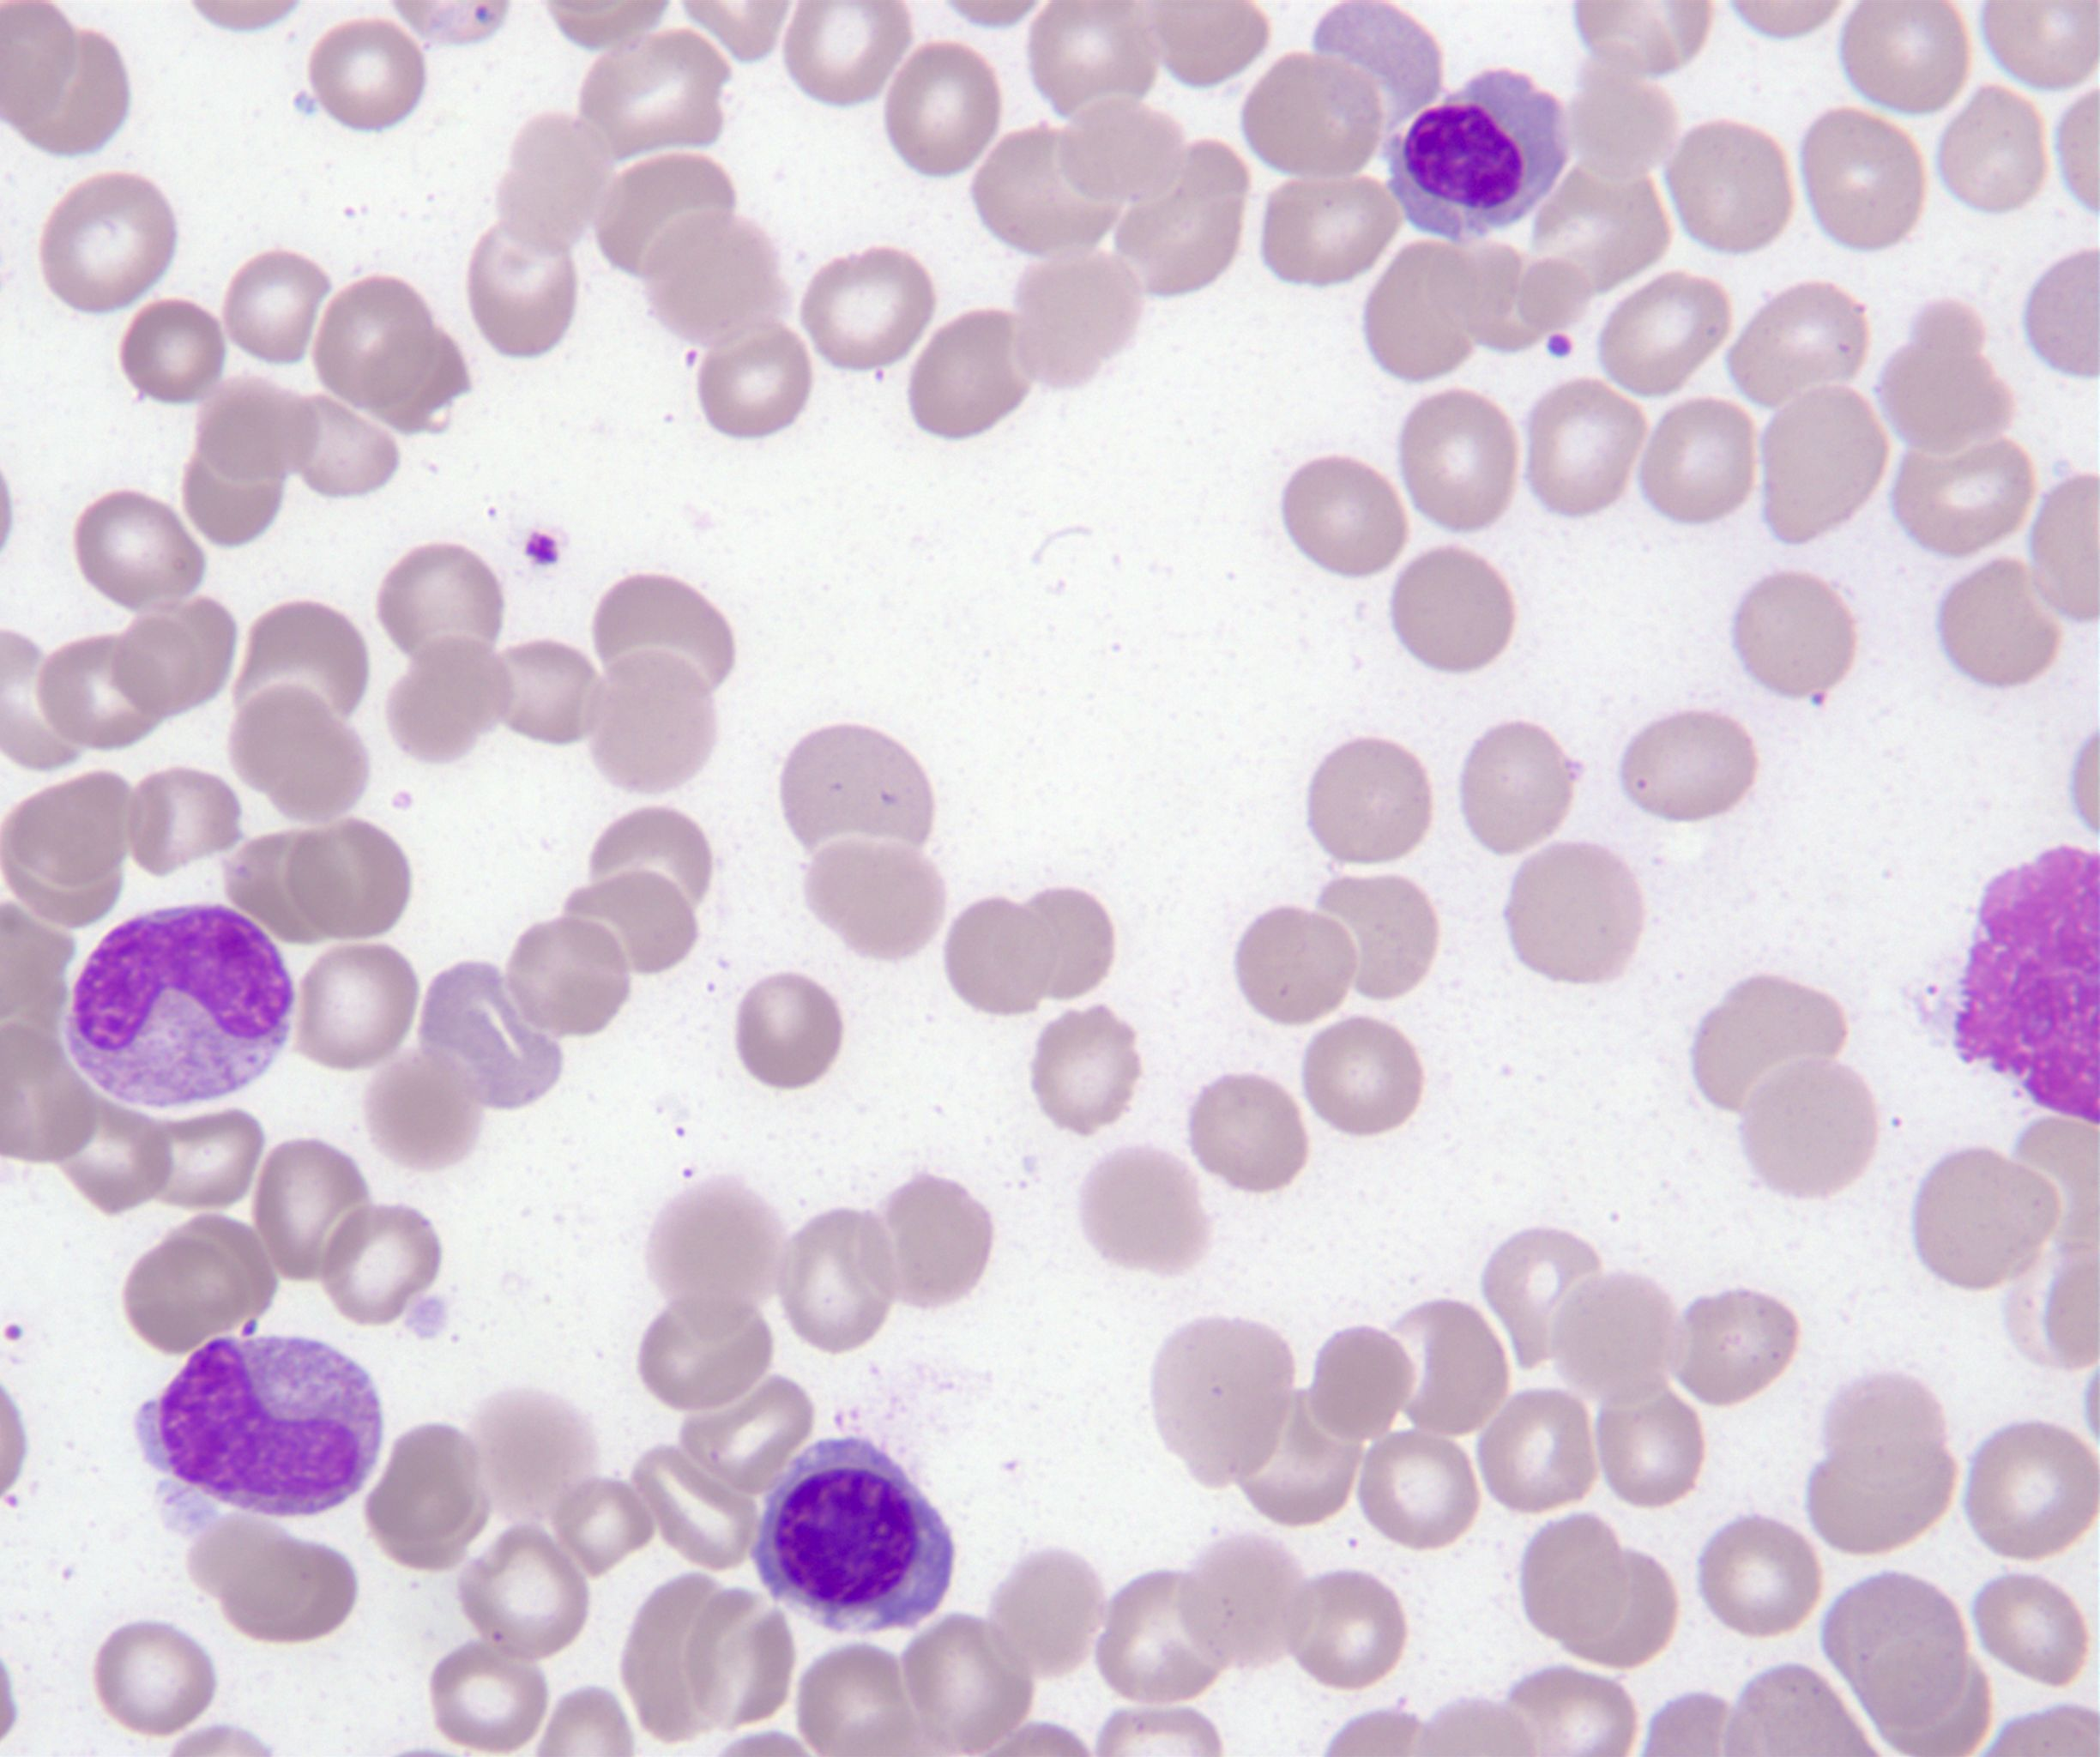23: (753, 1441, 951, 1637)
24: (1388, 72, 1568, 243)
4: (68, 906, 293, 1108), (134, 1338, 380, 1516)
x: (1955, 846, 2100, 1122)
